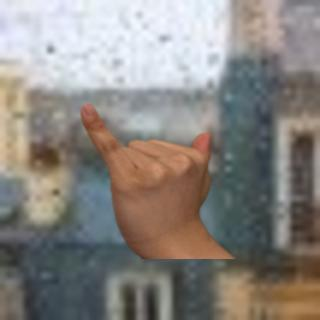HAVE: (69, 96, 218, 257)
